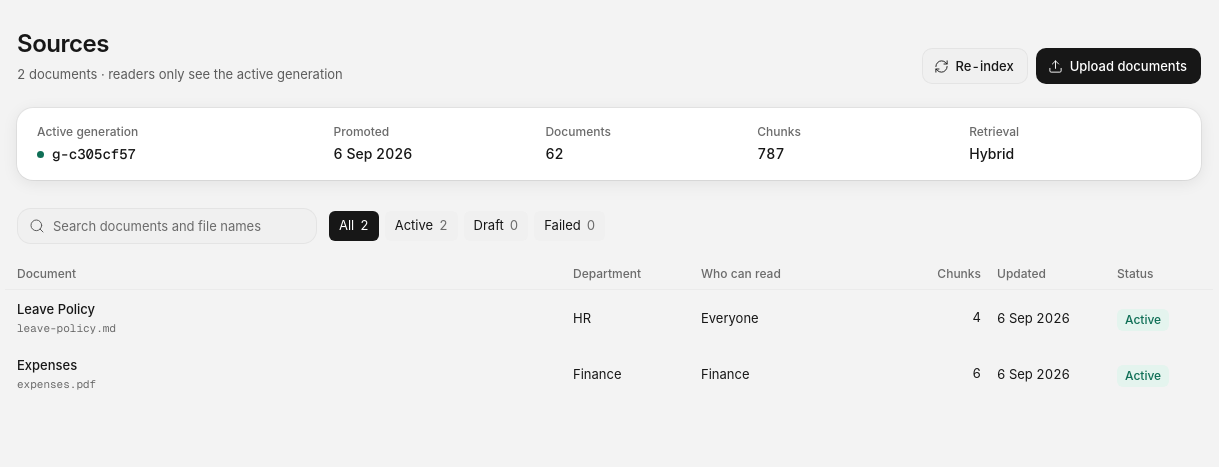
SourcesWorkspace rendering › starts a re-index and shows the failure from Brain when one is already open
Click the button "Re-index". click: (975, 66)
box: [922,48,1028,84]
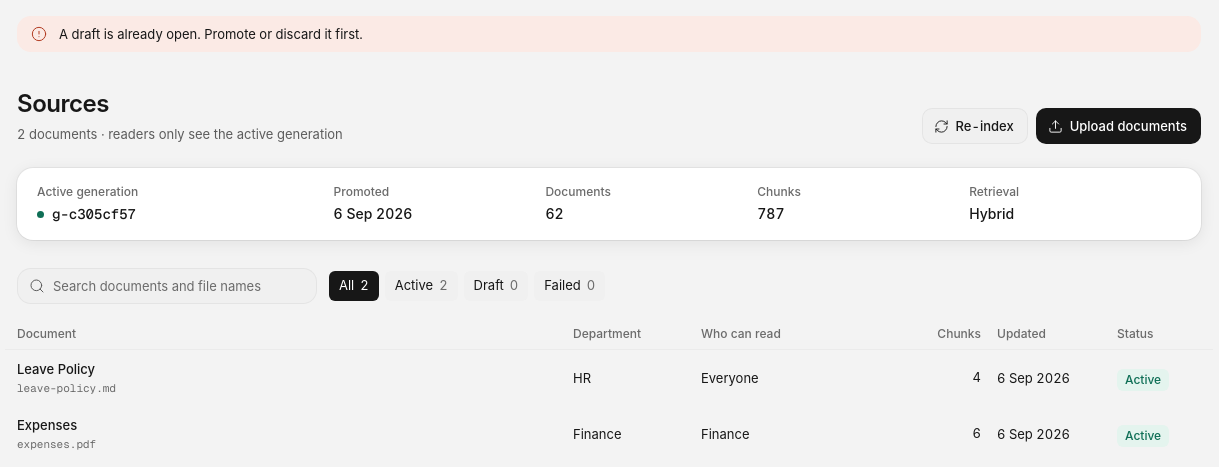
Expected: the message reads "A draft is already open. Promote or discard it first.", [59,26,363,42]
